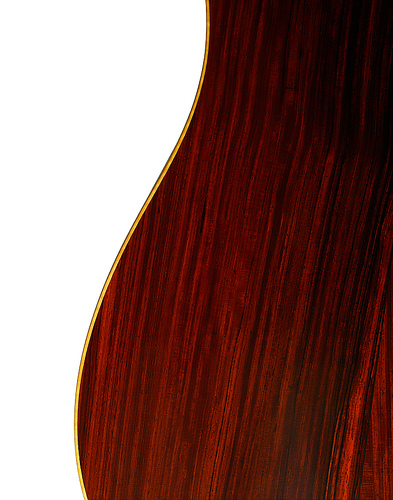guitar: (73, 1, 393, 500)
